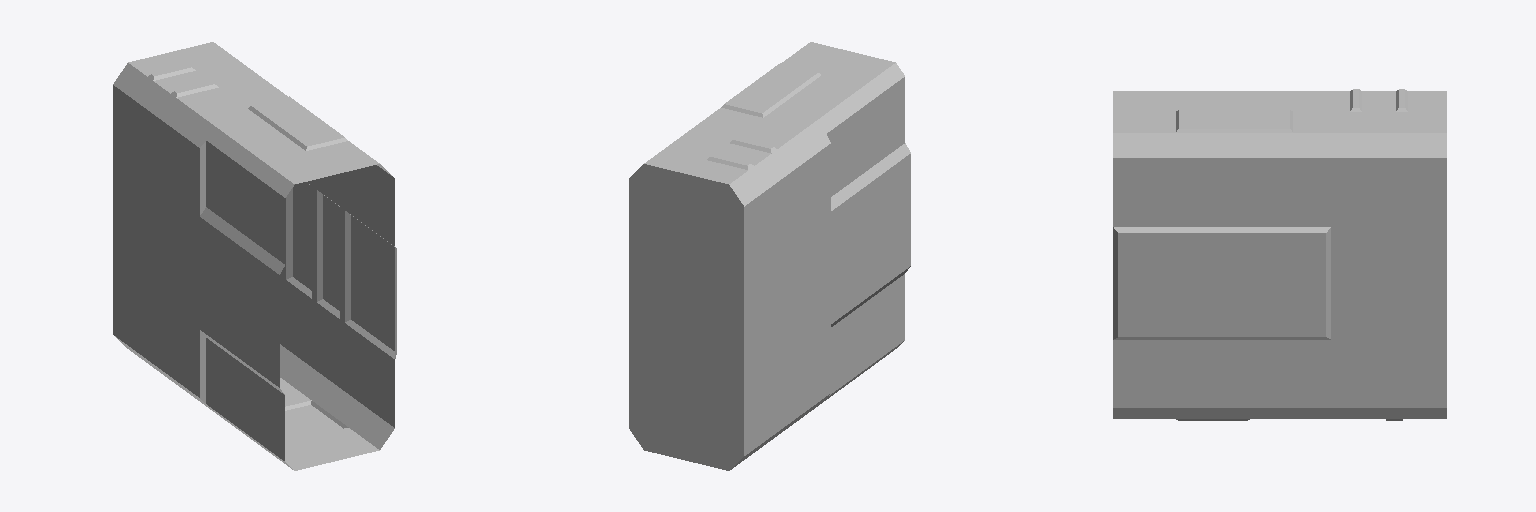
Rendered from oolite_coriolis_dock.obj.
3 renders of one model, left to right at view 1: azimuth 30°, elevation 25°; view 2: azimuth 150°, elevation 25°; view 3: azimuth 270°, elevation 25°, orthographic.
Parts seen in each view (by area): view 1: oolite_coriolis_dock.obj; view 2: oolite_coriolis_dock.obj; view 3: oolite_coriolis_dock.obj.
Part boxes in pixels (left/top/right/bottom): oolite_coriolis_dock.obj: left=113, top=42, right=396, bottom=470; oolite_coriolis_dock.obj: left=629, top=42, right=910, bottom=470; oolite_coriolis_dock.obj: left=1113, top=89, right=1446, bottom=420.
Bounding box in the file's own units: 103 × 242 × 250.